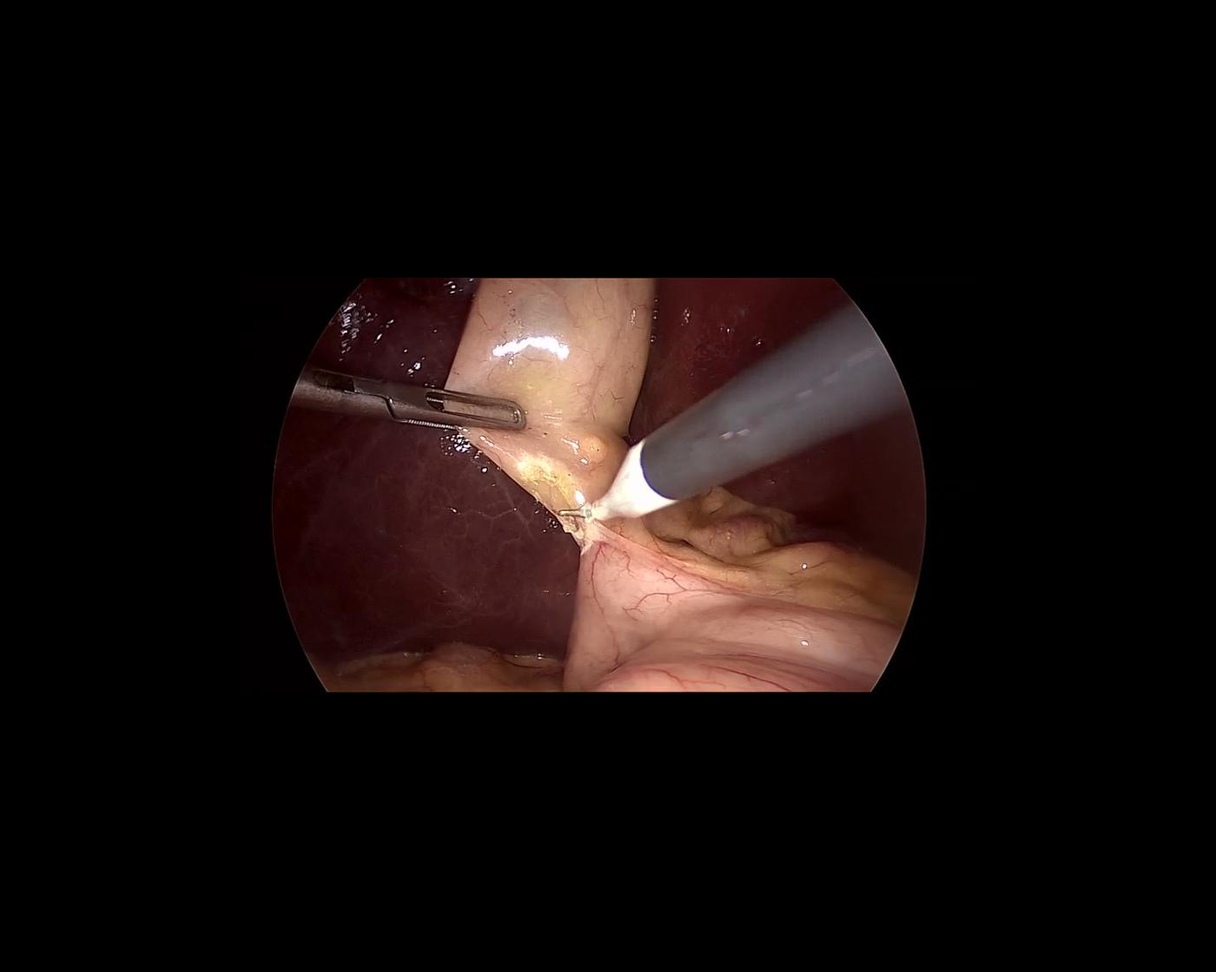Cautery: (529, 299, 910, 544)
Forceps: (291, 366, 525, 452)
Gallbladder: (435, 266, 658, 557)
Liver: (269, 277, 583, 666), (732, 410, 967, 629)
